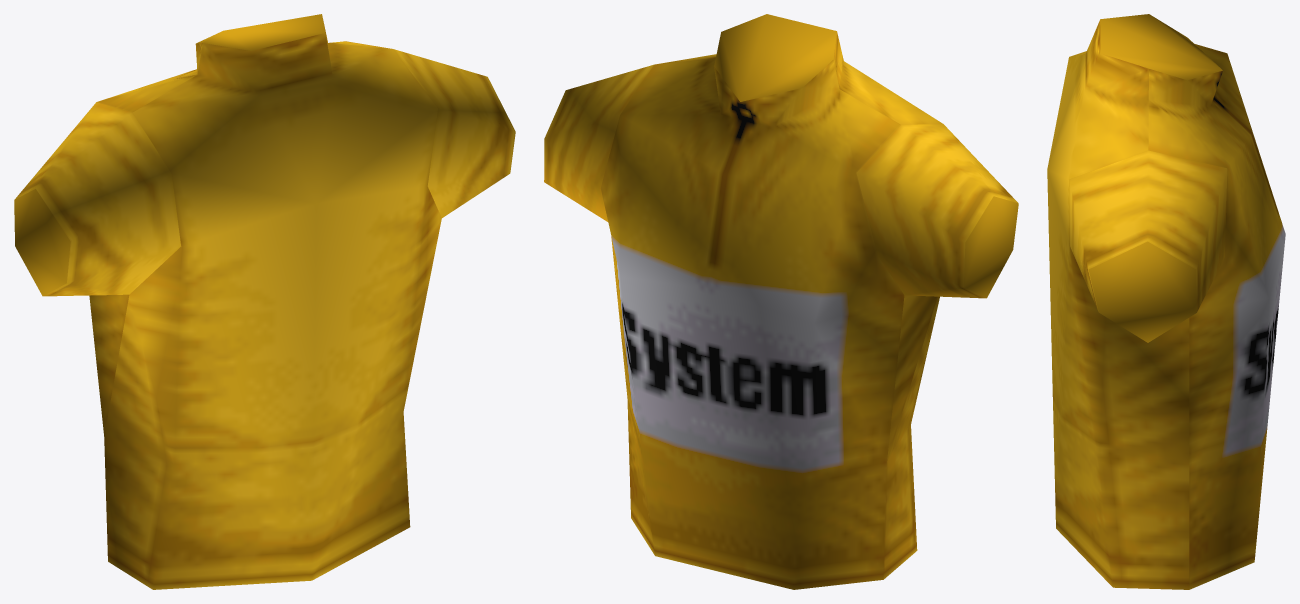
File: icon.ico.obj
The picture shows the model from 3 angles, left to right: view 1: azimuth 30°, elevation 25°; view 2: azimuth 150°, elevation 25°; view 3: azimuth 270°, elevation 25°; orthographic projection. The views are drawn at different scales.
Bounding box in the file's own units: 3.93 × 4.33 × 1.9.
1 material, 1 textured.
